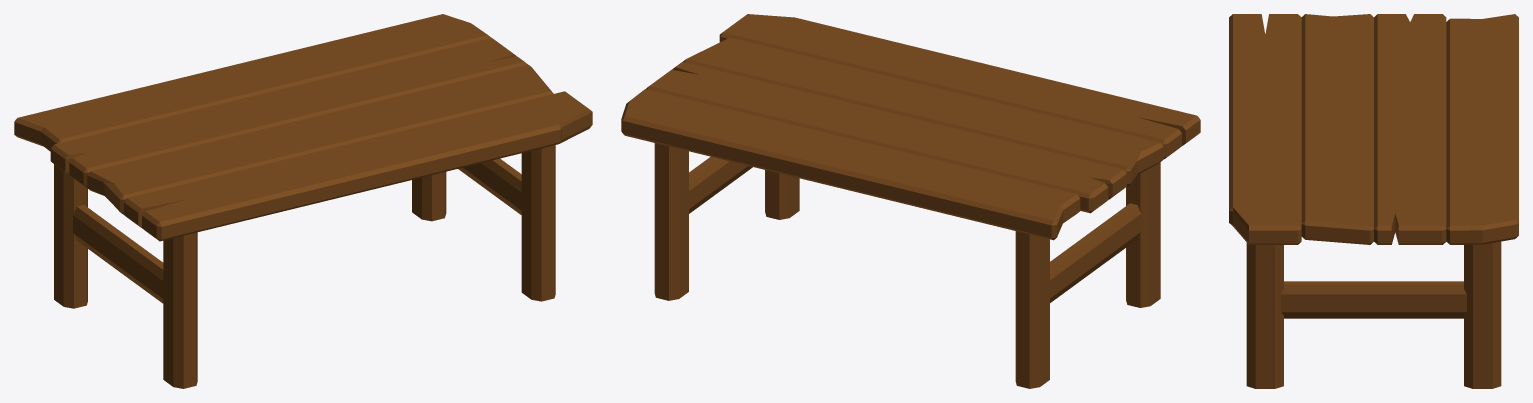
File: Mesa.fbx
3 renders of one model, left to right at view 1: azimuth 30°, elevation 25°; view 2: azimuth 150°, elevation 25°; view 3: azimuth 270°, elevation 25°, orthographic.
Parts seen in each view (by area): view 1: Table; view 2: Table; view 3: Table.
Boxes of the visible parts, left/top/right/bottom form: Table: left=14, top=14, right=592, bottom=388; Table: left=621, top=14, right=1200, bottom=388; Table: left=1229, top=14, right=1518, bottom=388.
Size of the model in its own units: 274 by 106 by 156.
